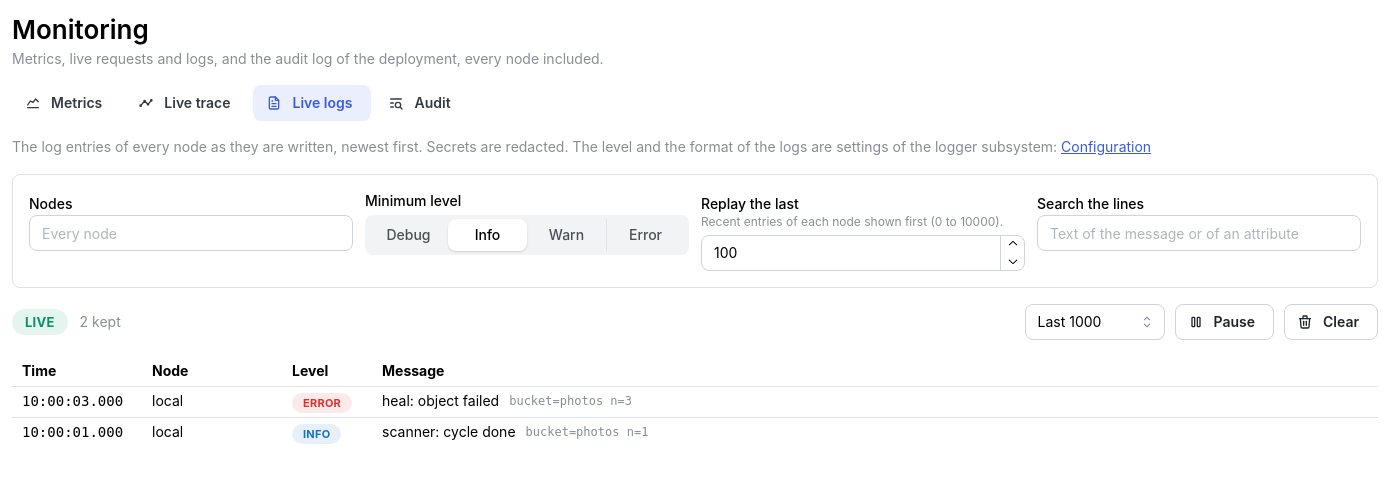
Test case: live logs (TD-U-12) › replays the recent entries, then streams and searches them
The image size is (1390, 492).
Expected: the text "scanner: cycle done" is shown, x1=382 y1=422 x2=516 y2=443
Expected: the text "rpc: call" is not shown
In the search field labelled "Search the lines": (1199, 234) x1=1037 y1=216 x2=1361 y2=252, type "heal"
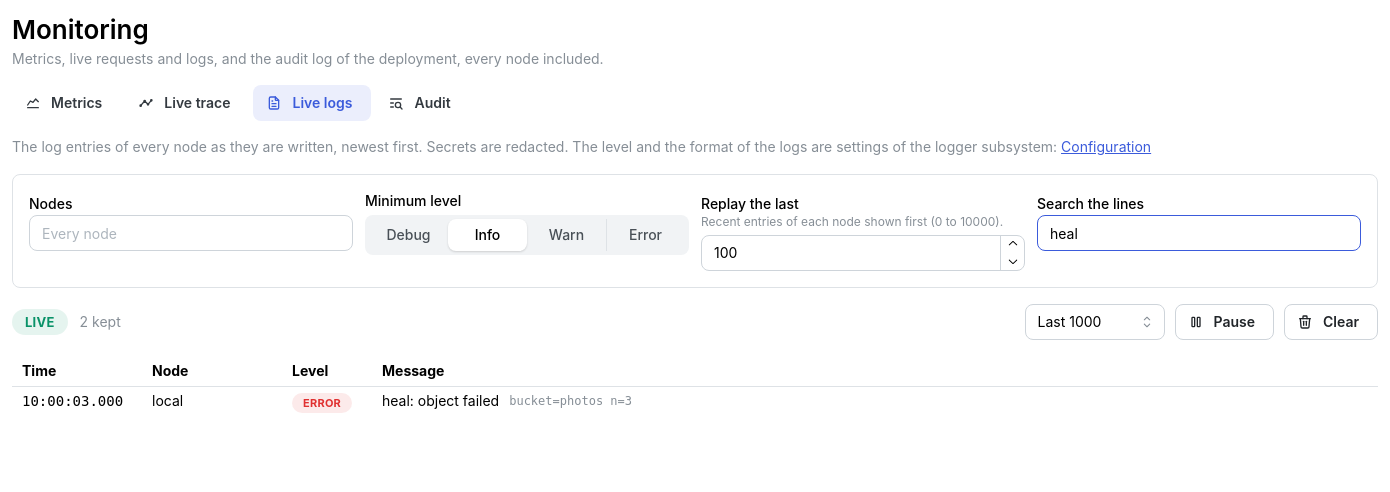
Expected: the text "heal: object failed" is shown, x1=382 y1=391 x2=499 y2=412
Now the text "scanner: cycle done" is gone
Click the radio button labelled "Debug": (409, 234) x1=386 y1=226 x2=431 y2=243
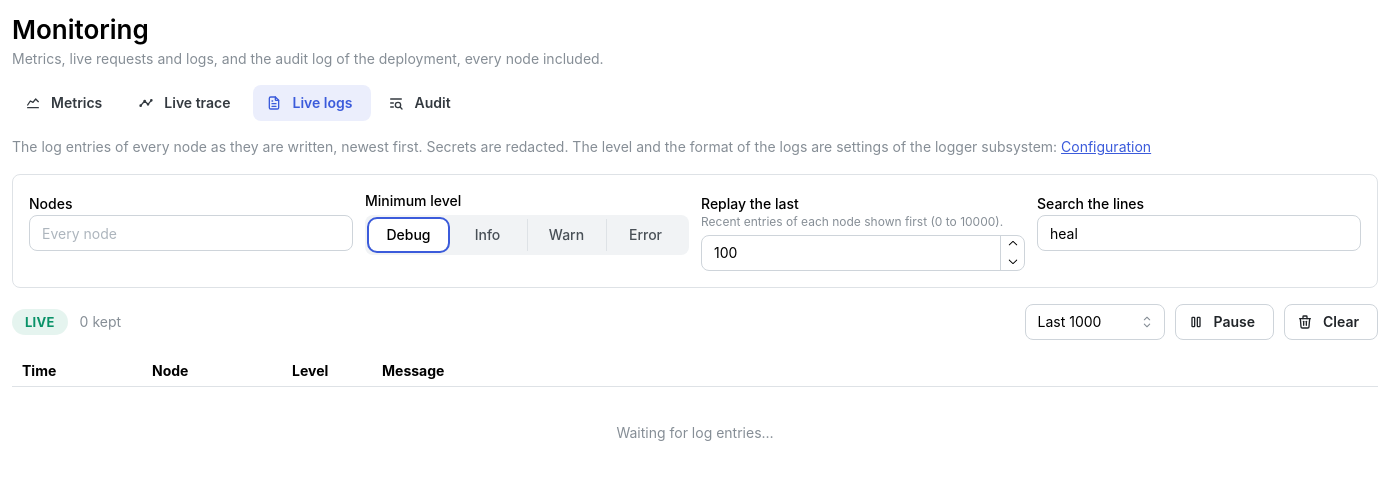
Clear the search field labelled "Search the lines": (1199, 234) x1=1037 y1=216 x2=1361 y2=252
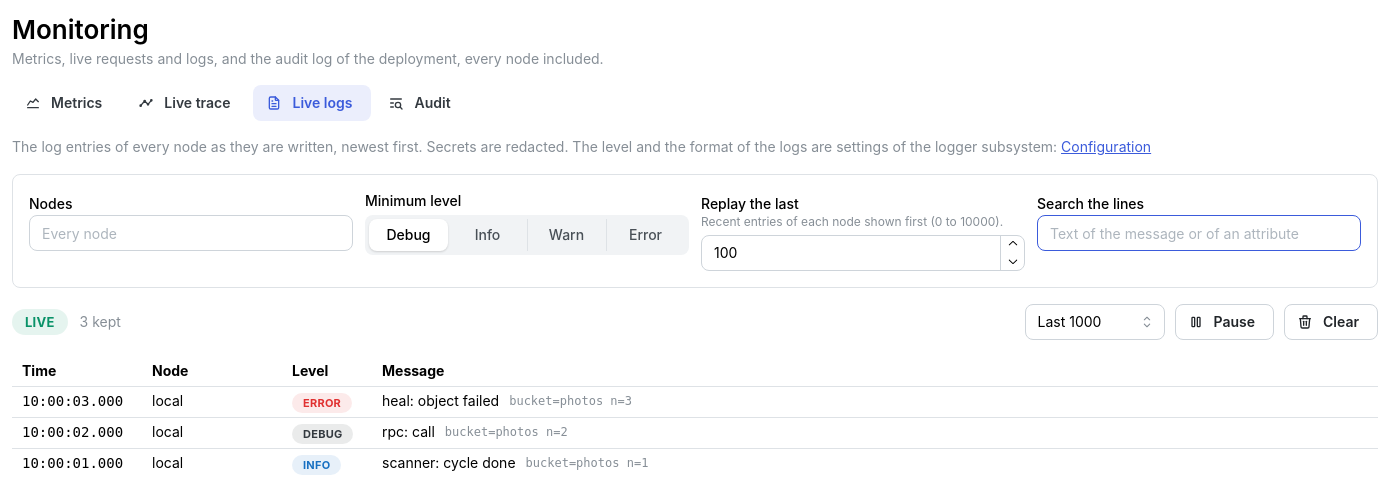
Now the text "rpc: call" is shown, box x1=382 y1=422 x2=435 y2=443
